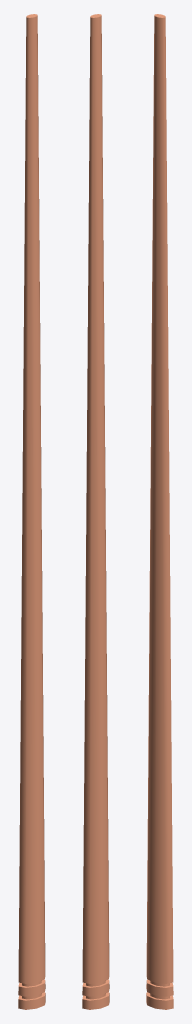
File: chopstick_005.glb
3 renders of one model, left to right at view 1: azimuth 30°, elevation 25°; view 2: azimuth 210°, elevation 25°; view 3: azimuth 330°, elevation 25°, orthographic.
Parts seen in each view (by area): view 1: chopstick.005; view 2: chopstick.005; view 3: chopstick.005.
Boxes of the visible parts, box(x1,y1,x2,y2) form: chopstick.005: box(18, 14, 45, 1009); chopstick.005: box(82, 14, 109, 1009); chopstick.005: box(146, 14, 173, 1009).
Size of the model in its own units: 0.1591 by 5.51 by 0.0955.
1 material, 1 textured.
